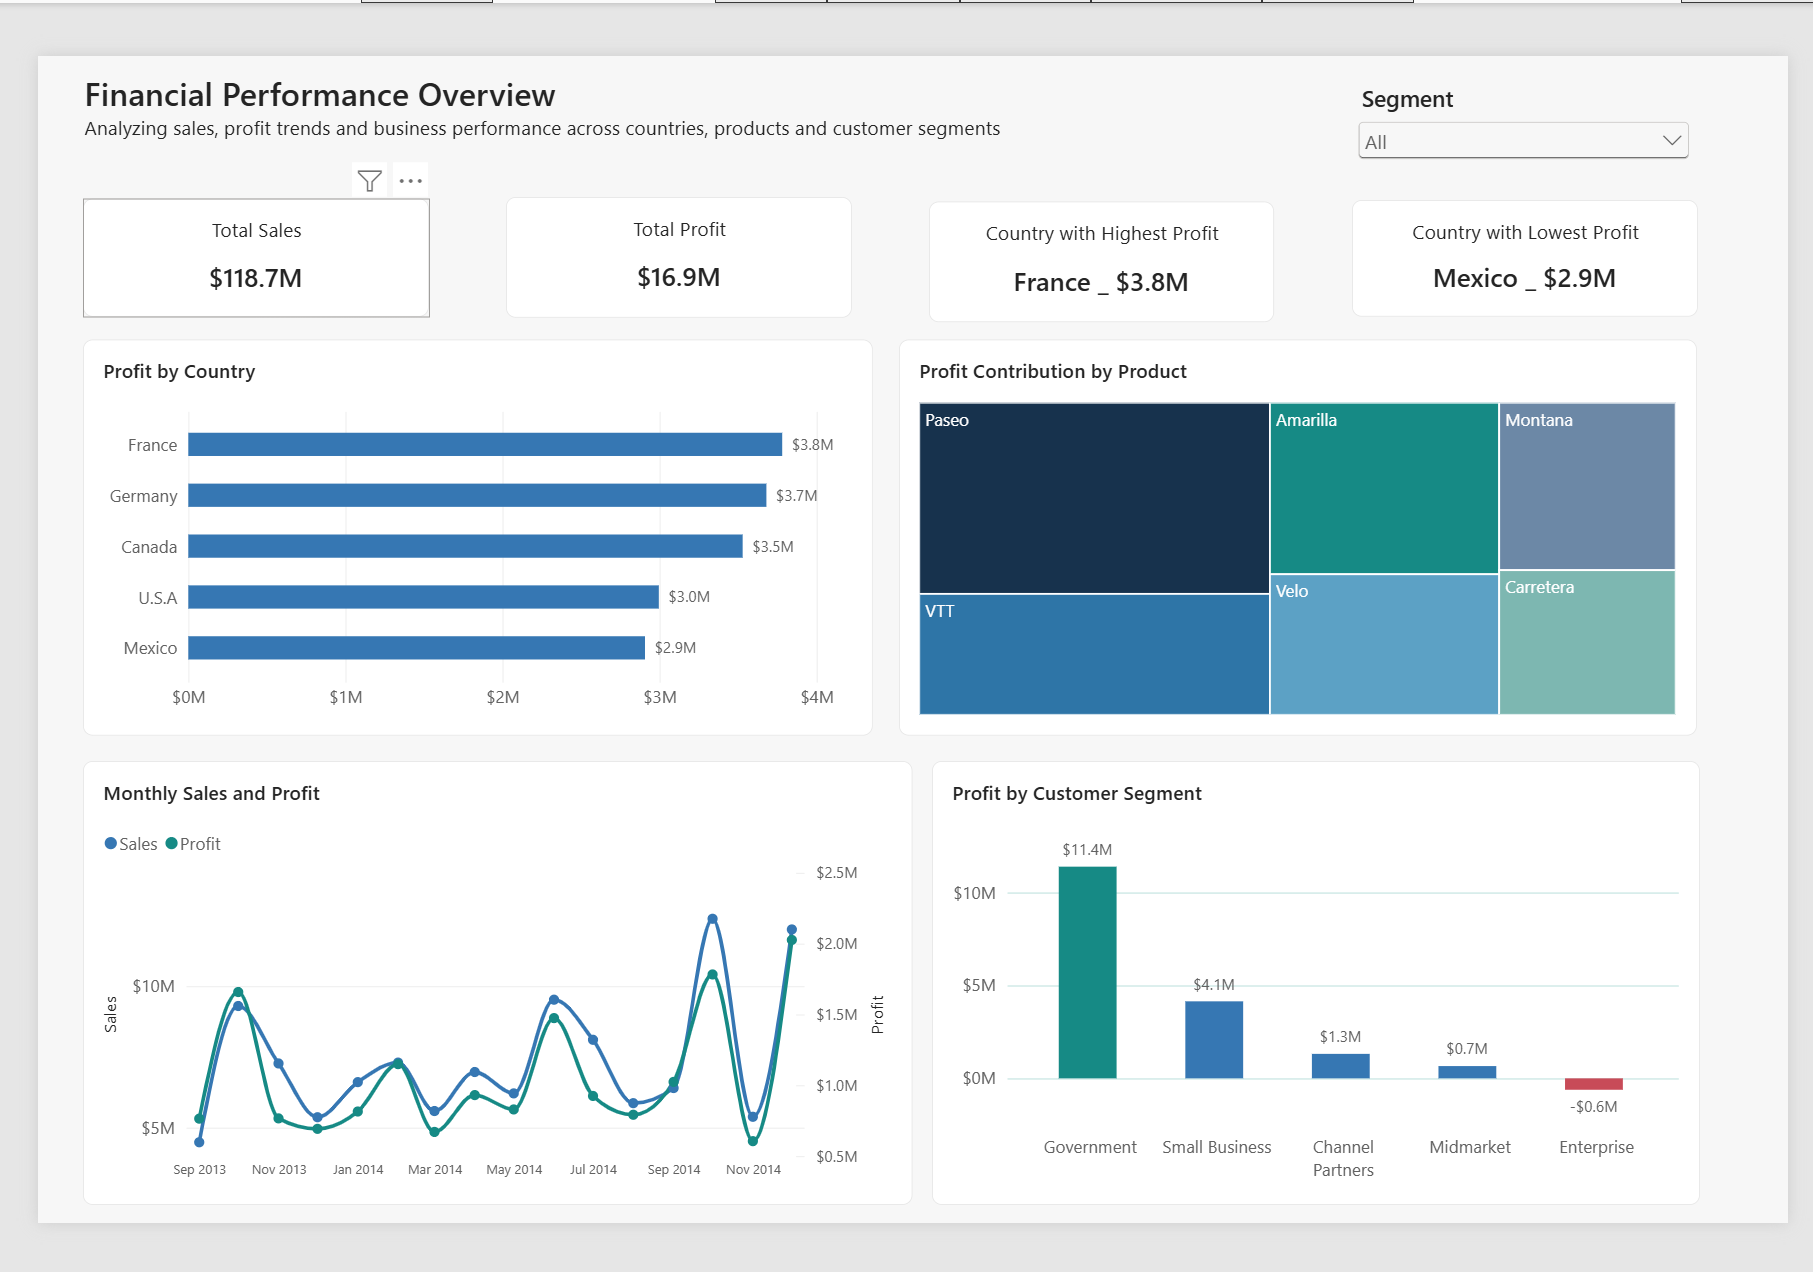

The dashboard page shown, as its layout file describes it:
{"tool":"powerbi","page":{"name":"Page 1","canvas":[1440,960],"ordinal":0},"visuals":[{"type":"card","title":"Total Profit","fields":{"Values":["Sum(financials.Profit)"]},"box":[385.5,116.1,284.9,99.1],"z":2},{"type":"card","title":"Total Sales","fields":{"Values":["Sum(financials.Sales)"]},"box":[37.2,117.7,284.9,97.5],"z":3},{"type":"barChart","title":"Profit by Country","fields":{"Category":["financials.Country"],"Y":["Sum(financials.Profit)"]},"box":[36.7,233.8,649.8,326.2],"z":4},{"type":"card","title":"Country with Highest Profit","fields":{"Values":["Measures_Folder.Highest Profit Country"]},"box":[733.9,119.2,284.1,99.2],"z":5},{"type":"card","title":"Country with Lowest Profit","fields":{"Values":["Measures_Folder.Lowest Profit Country"]},"box":[1081.5,119.1,284.9,96],"z":6},{"type":"slicer","fields":{"Values":["financials.Segment"]},"box":[1081.8,22.8,282.5,75.7],"z":7},{"type":"treemap","title":"Profit Contribution by Product","fields":{"Group":["financials.Product"],"Values":["Sum(financials.Profit)"]},"box":[709.2,233.8,656.6,326.2],"z":9},{"type":"lineChart","title":"Monthly Sales and Profit ","fields":{"Category":["financials.Date"],"Y":["Sum(financials.Sales)"],"Y2":["Sum(financials.Profit)"]},"box":[37.3,580.6,682.7,365.4],"z":10},{"type":"clusteredColumnChart","title":"Profit by Customer Segment","fields":{"Category":["financials.Segment"],"Y":["Sum(financials.Profit)"]},"box":[735.4,580.4,632.1,365.7],"z":11},{"type":"textbox","box":[37.7,12.2,966,87],"z":12}]}

Visuals, with their boxes on the page's 1440x960 design canvas (x1, y1, x2, y2). These are canvas units, not pixel positions in the 1813x1272 screenshot, which may show the page scaled, cropped or inside an application window:
"Total Profit" card: left=386, top=116, right=670, bottom=215
"Total Sales" card: left=37, top=118, right=322, bottom=215
"Profit by Country" barChart: left=37, top=234, right=686, bottom=560
"Country with Highest Profit" card: left=734, top=119, right=1018, bottom=218
"Country with Lowest Profit" card: left=1082, top=119, right=1366, bottom=215
slicer - financials.Segment: left=1082, top=23, right=1364, bottom=98
"Profit Contribution by Product" treemap: left=709, top=234, right=1366, bottom=560
"Monthly Sales and Profit " lineChart: left=37, top=581, right=720, bottom=946
"Profit by Customer Segment" clusteredColumnChart: left=735, top=580, right=1368, bottom=946
textbox: left=38, top=12, right=1004, bottom=99
